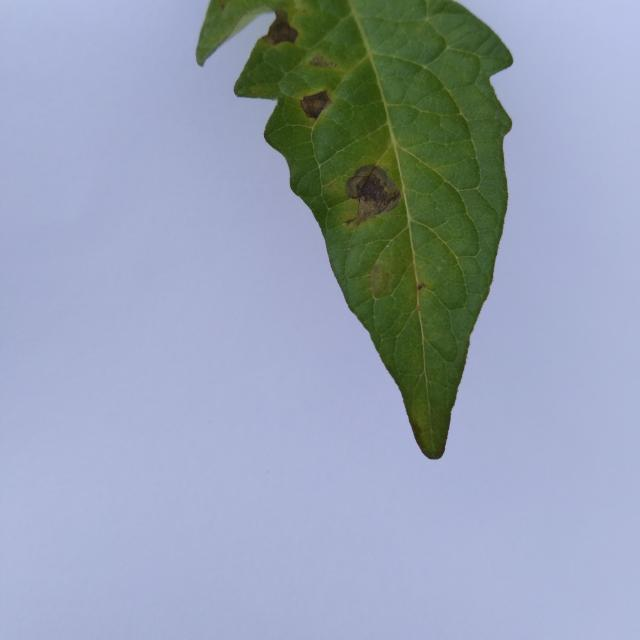Early Blight: (232, 0, 517, 462)
